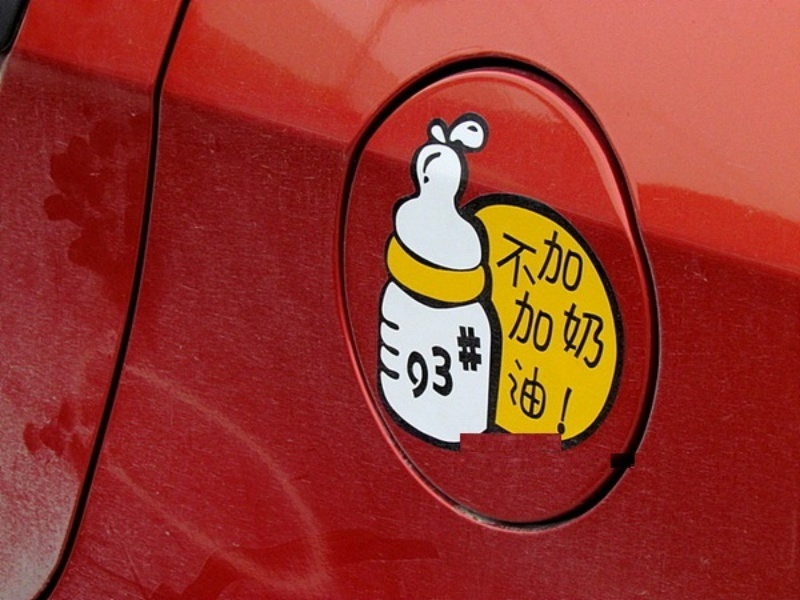text: (513, 355, 528, 438), (529, 355, 544, 438), (545, 355, 560, 438), (529, 289, 544, 370), (545, 289, 560, 370), (561, 289, 576, 370), (577, 289, 592, 370), (593, 289, 608, 370), (561, 355, 575, 438), (513, 222, 528, 298), (529, 222, 544, 298), (545, 222, 560, 298), (561, 222, 576, 298), (417, 326, 432, 399), (433, 326, 448, 399), (449, 326, 464, 399), (465, 326, 480, 399), (577, 222, 591, 298), (499, 222, 512, 298), (517, 289, 528, 370), (405, 326, 416, 399), (481, 326, 483, 399), (511, 355, 512, 438), (609, 289, 610, 370)
